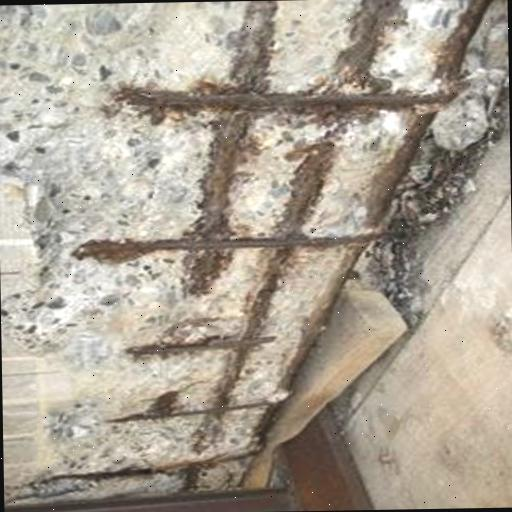spalling: (0, 0, 494, 495)
